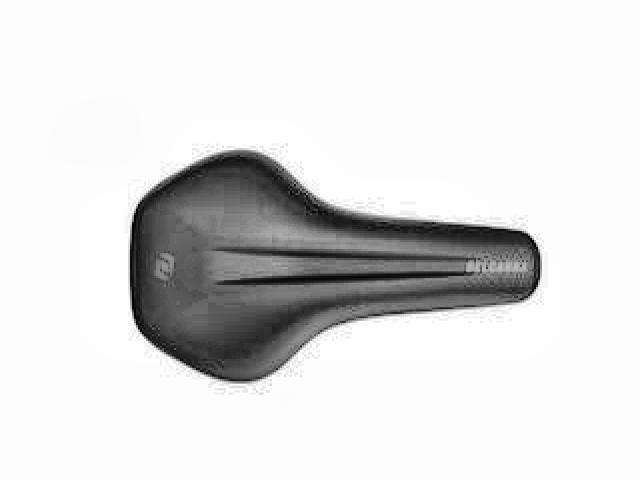saddle: (125, 148, 542, 386)
